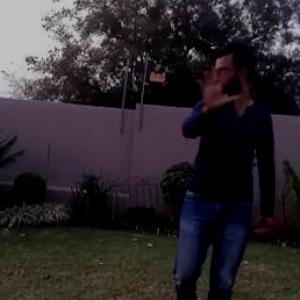follow_hand: (193, 60, 243, 112)
